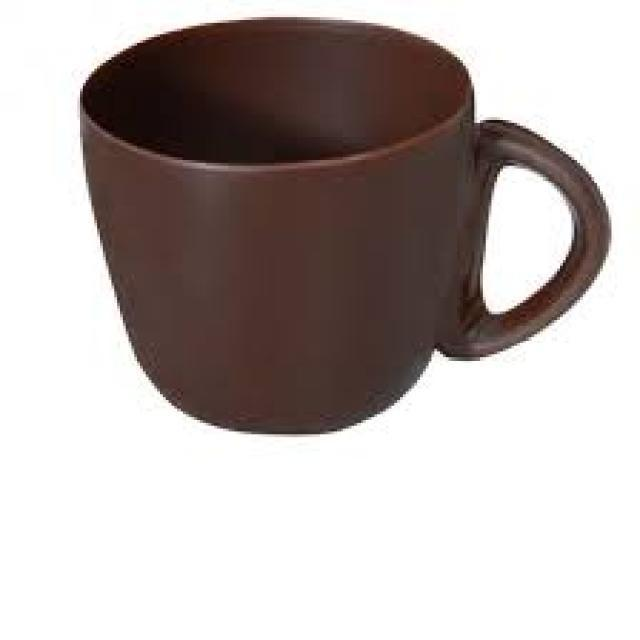taza: (68, 5, 612, 442)
